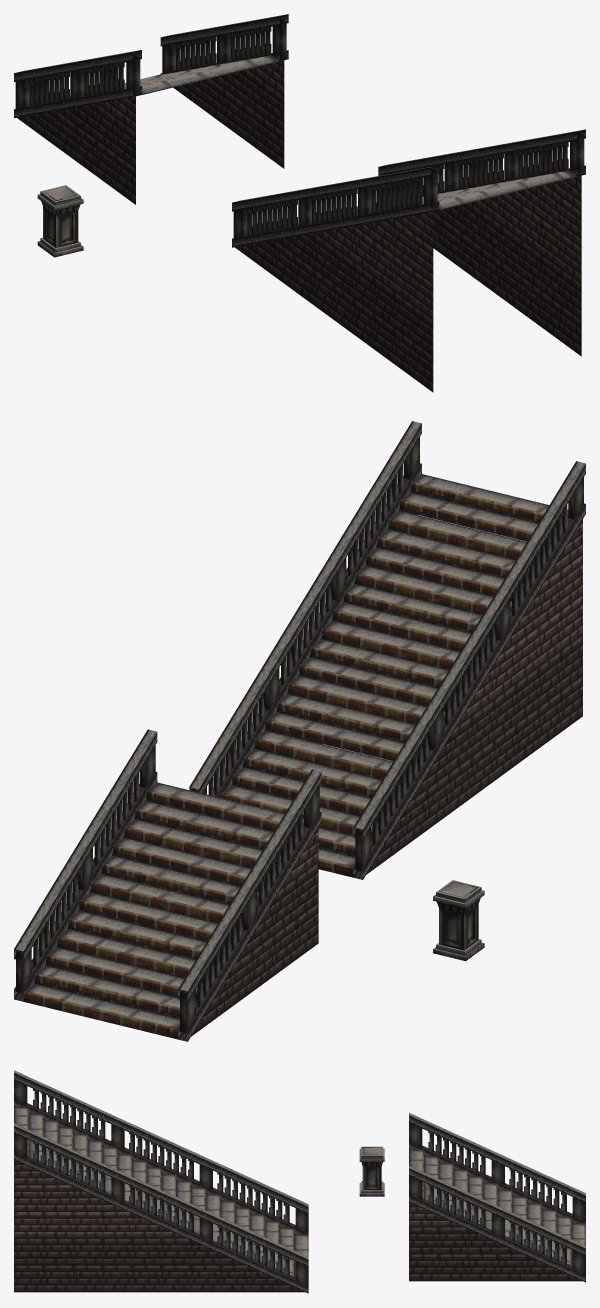
Rendered from EnvObjMD_Stairs_A_Large.FBX.
3 views of the same model, one above another, from view 1: azimuth 30°, elevation 25°; view 2: azimuth 150°, elevation 25°; view 3: azimuth 270°, elevation 25° (orthographic). The views are drawn at different scales.
Parts seen in each view (by area): view 1: EnvObjMD_Stairs_A_Large, EnvObjMD_Stairs_A_Medium, EnvObjMD_Stairs_Pillar_A; view 2: EnvObjMD_Stairs_A_Large, EnvObjMD_Stairs_A_Medium, EnvObjMD_Stairs_Pillar_A; view 3: EnvObjMD_Stairs_A_Large, EnvObjMD_Stairs_A_Medium, EnvObjMD_Stairs_Pillar_A.
Boxes of the visible parts, x1,y1,x2,y2 form: EnvObjMD_Stairs_A_Large: (232,129,585,392); EnvObjMD_Stairs_A_Medium: (14,14,288,204); EnvObjMD_Stairs_Pillar_A: (37,185,83,257); EnvObjMD_Stairs_A_Large: (189,421,585,879); EnvObjMD_Stairs_A_Medium: (14,729,321,1041); EnvObjMD_Stairs_Pillar_A: (433,880,484,961); EnvObjMD_Stairs_A_Large: (14,1070,308,1293); EnvObjMD_Stairs_A_Medium: (409,1113,585,1282); EnvObjMD_Stairs_Pillar_A: (359,1146,384,1196).
Bounding box in the file's own units: 865 × 627 × 1940.
